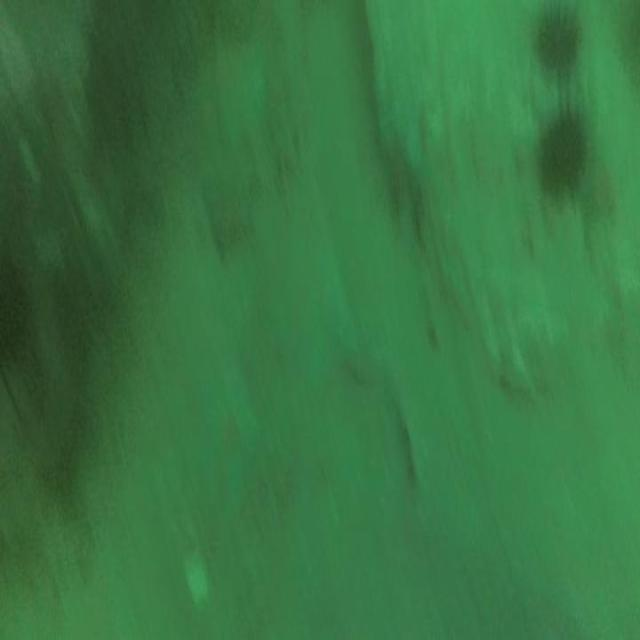echinus: (532, 79, 602, 205), (531, 5, 589, 85)
